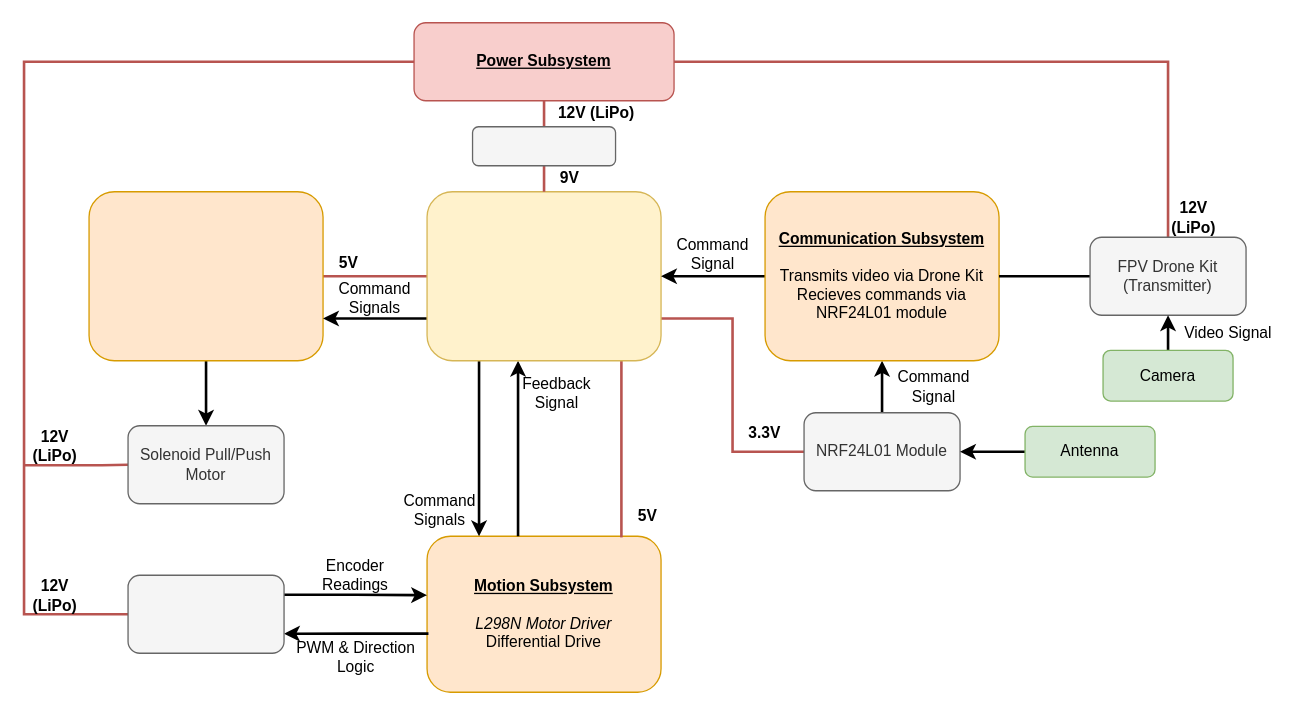
This 1312x715 diagram has some shape labels left out. Each missing label, with the centre of its shape:
Buck Converter: the point at 543,145
DC Motors & Encoders: the point at 205,613
Main Processor Subsystem Arduino MEGA: the point at 543,275
Shooting Subsystem Solenoid Push/Pull Motor L298N Motor Driver: the point at 205,275
